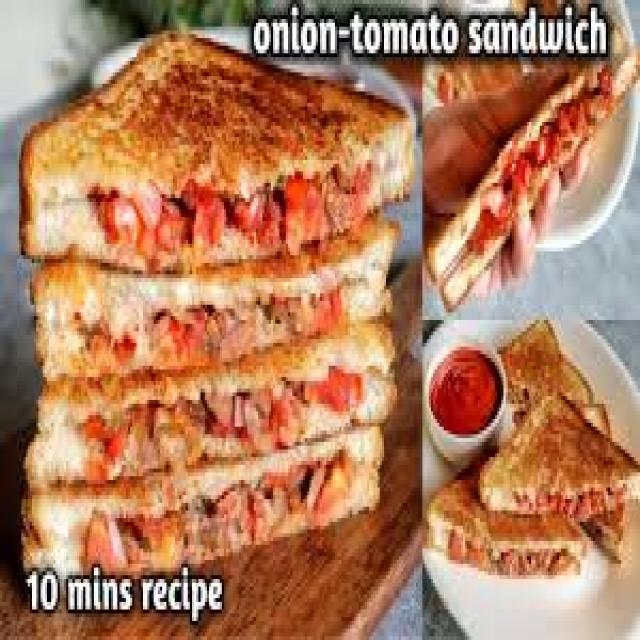Sandwich: (46, 78, 404, 556)
